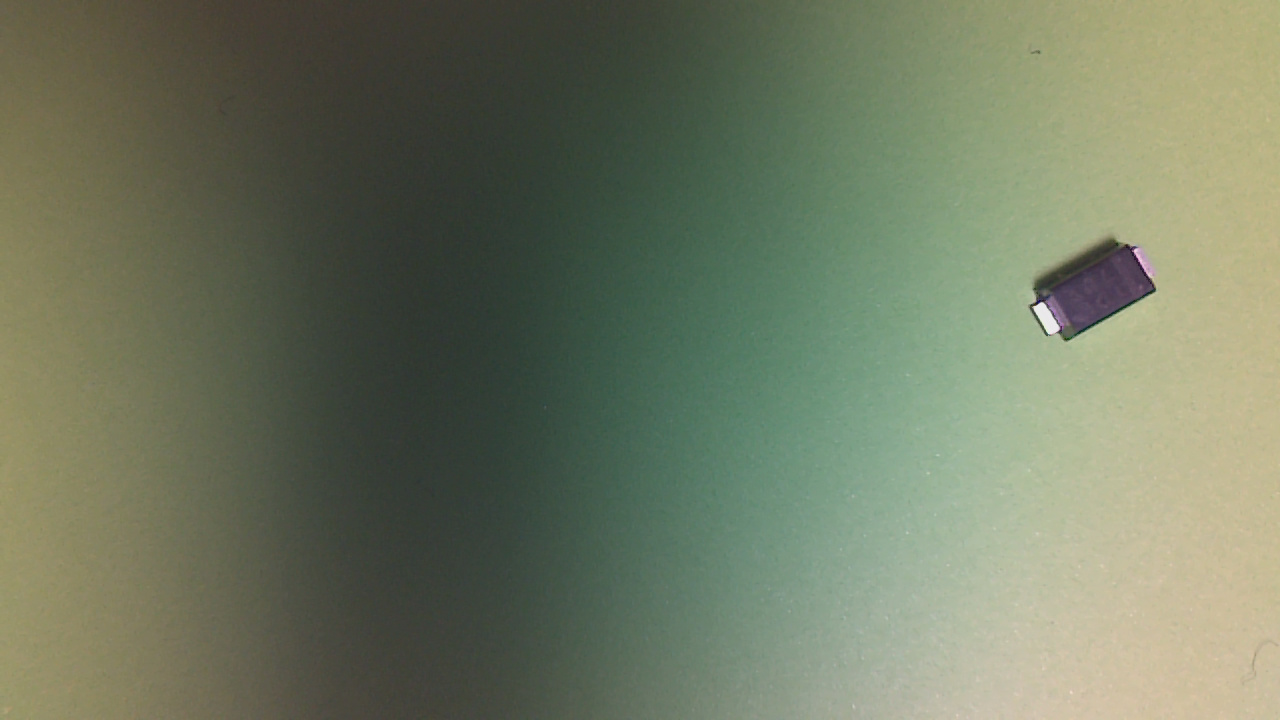Diode: (1035, 244, 1163, 348)
